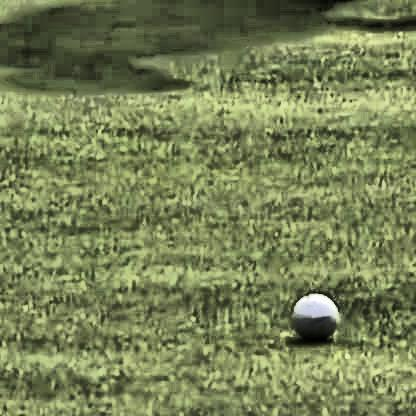golfball: (290, 287, 338, 338)
